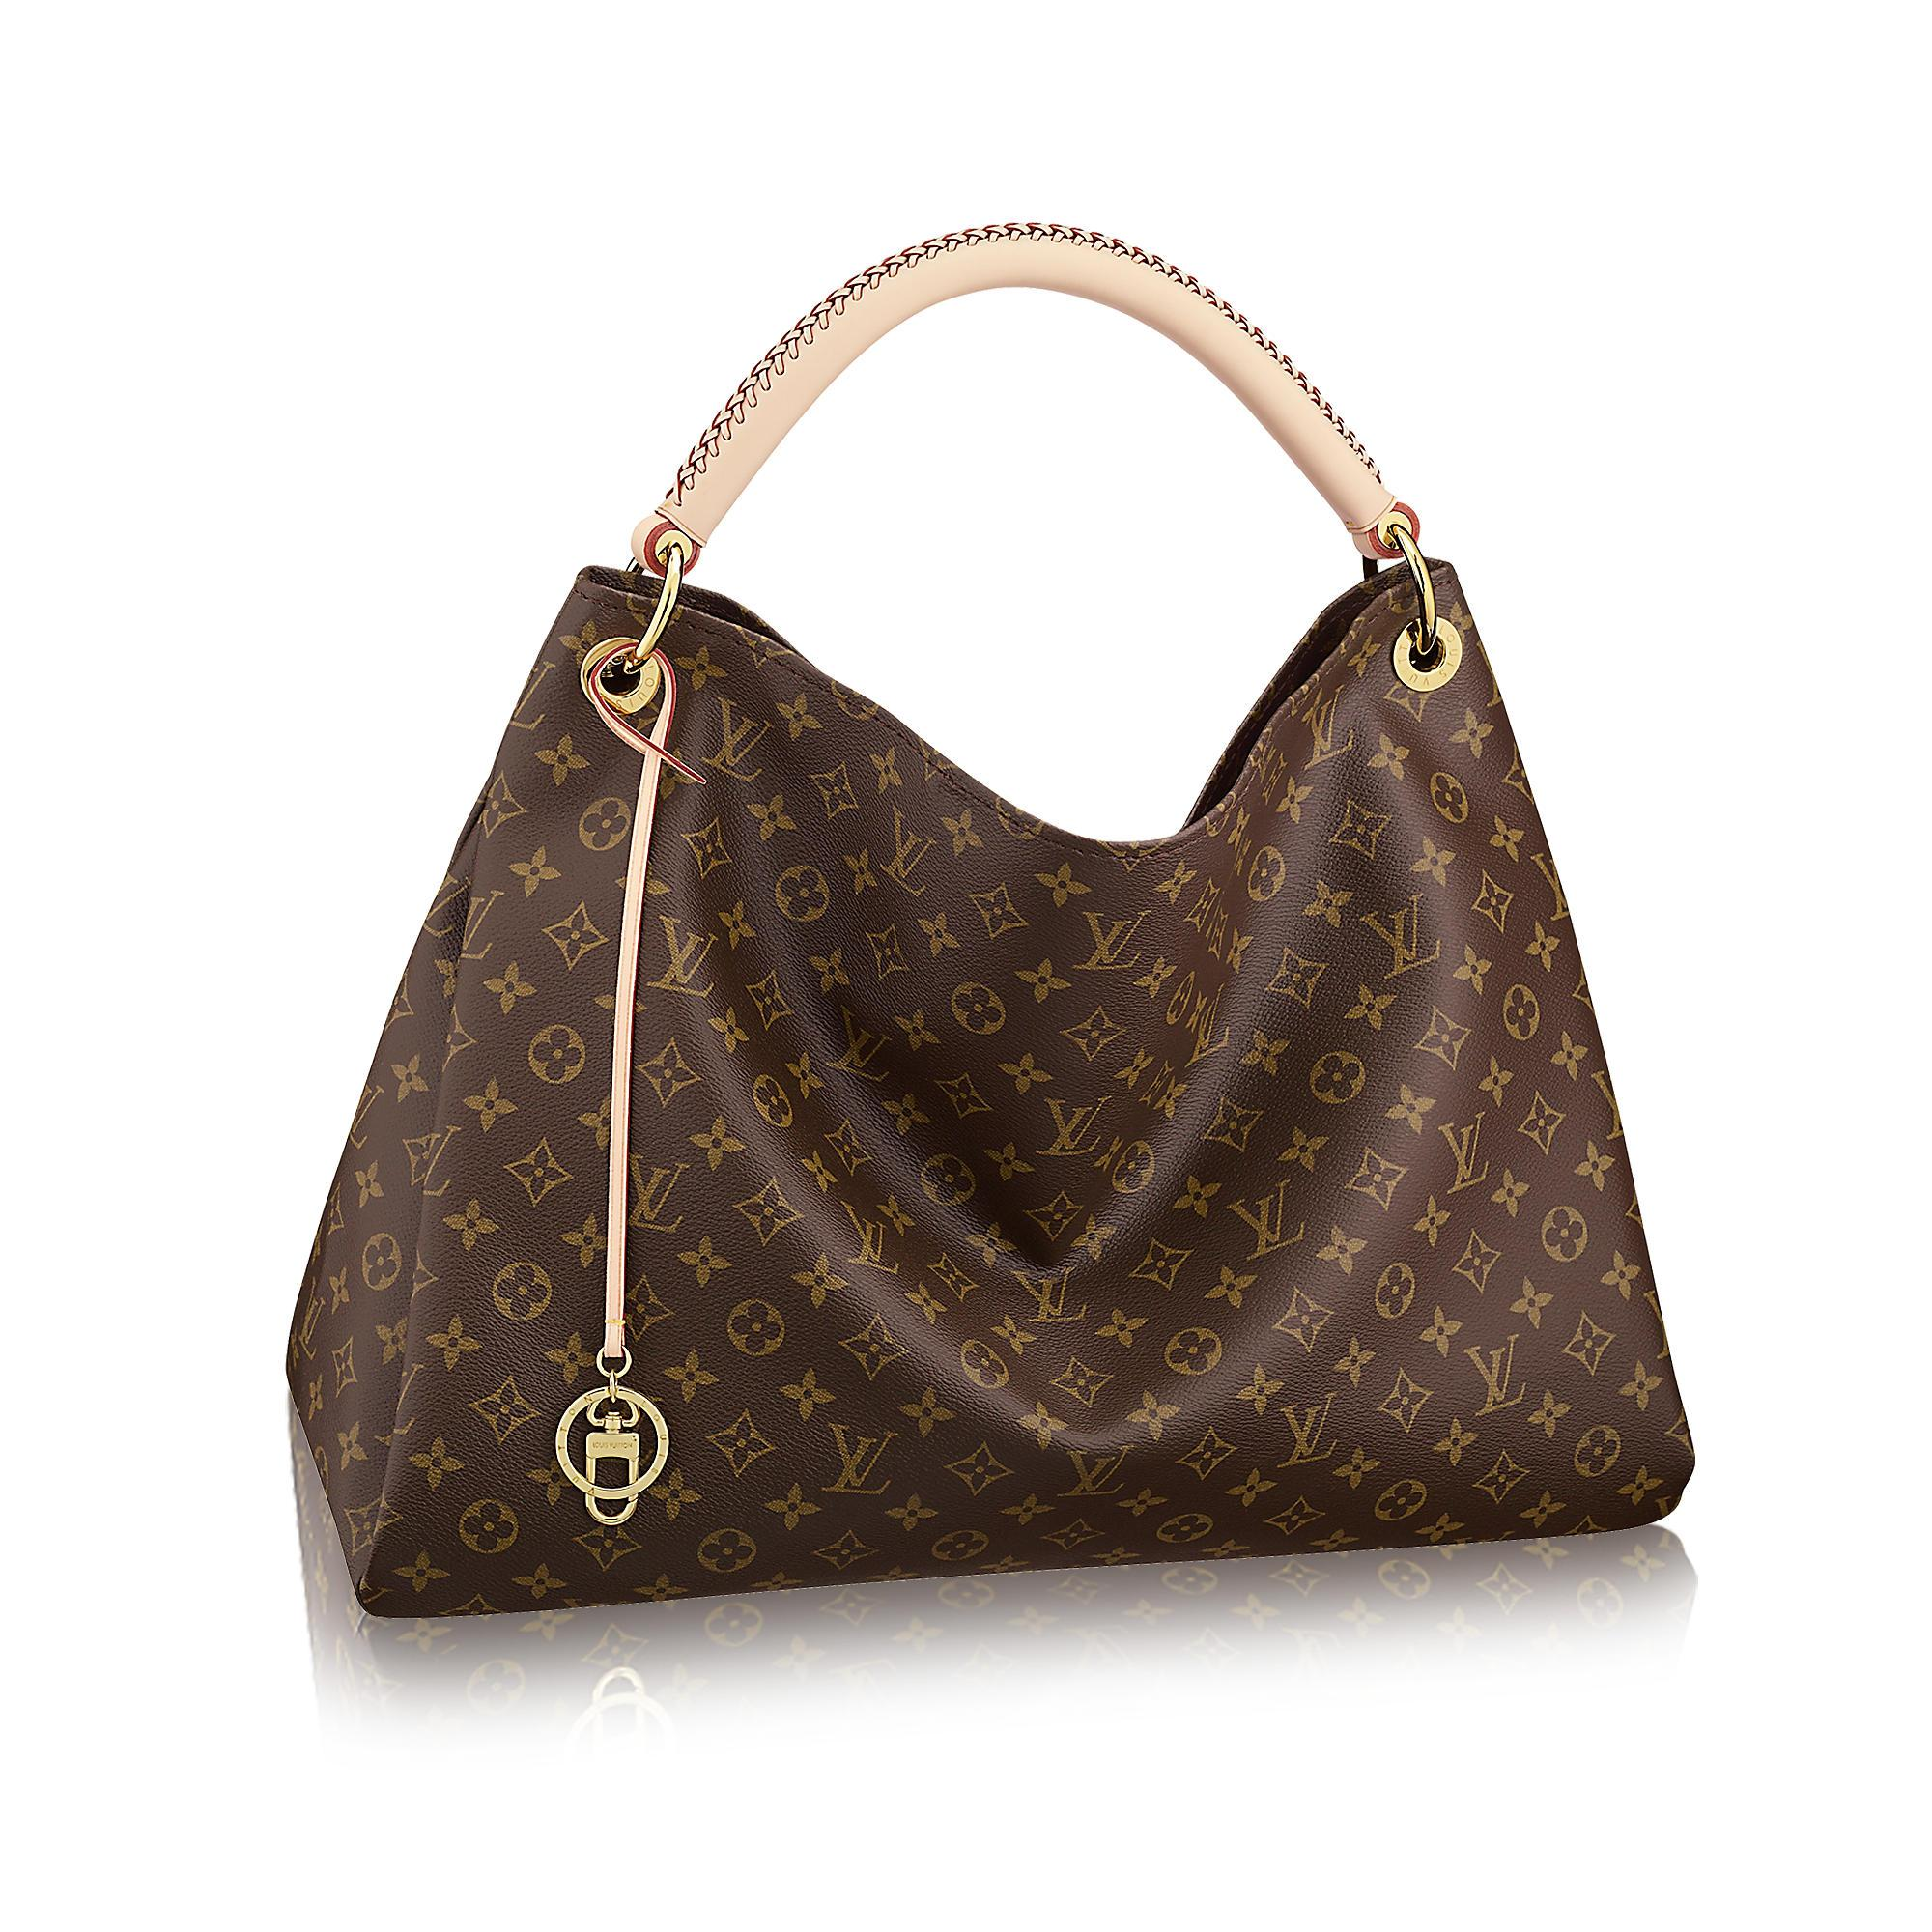LOUIS-VUITTON: (1359, 890, 1444, 980), (817, 1415, 899, 1499), (1226, 1173, 1304, 1258), (617, 1152, 695, 1235), (651, 908, 720, 1001), (708, 692, 775, 787), (826, 1196, 904, 1277), (824, 1000, 893, 1086), (1272, 1387, 1339, 1476), (1297, 685, 1357, 780), (1463, 1329, 1527, 1417), (881, 798, 932, 901), (1076, 904, 1150, 973), (1037, 1092, 1111, 1159), (1010, 1265, 1090, 1325), (1440, 1104, 1493, 1192), (1058, 1442, 1136, 1499), (1182, 982, 1231, 1065), (295, 1272, 326, 1359)
